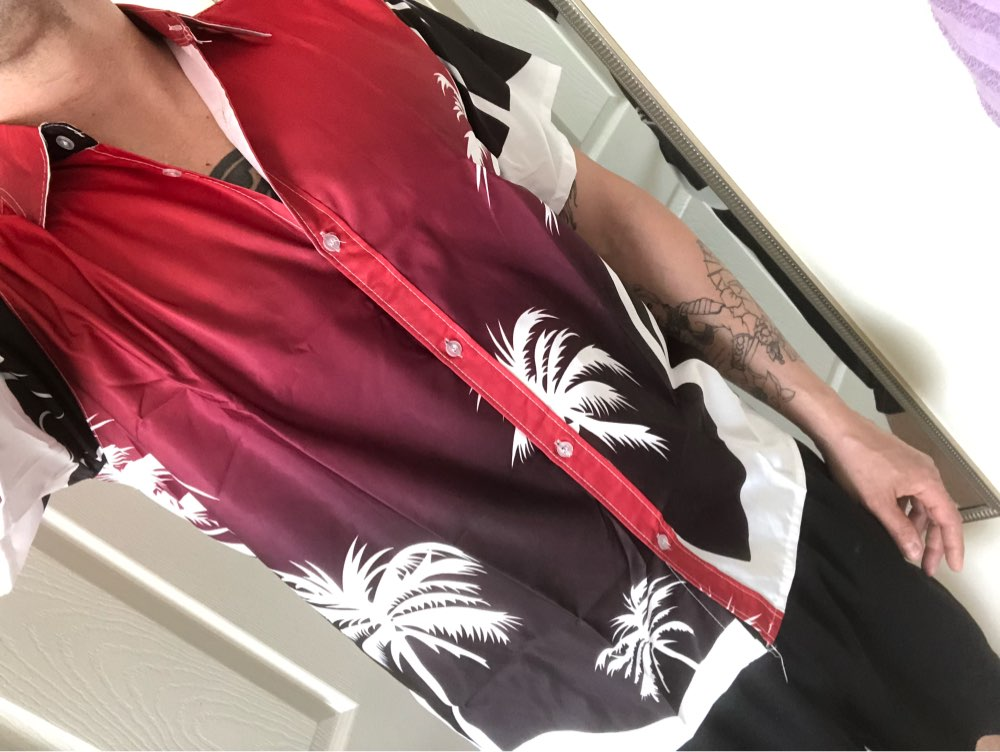shirts: (3, 1, 810, 752)
